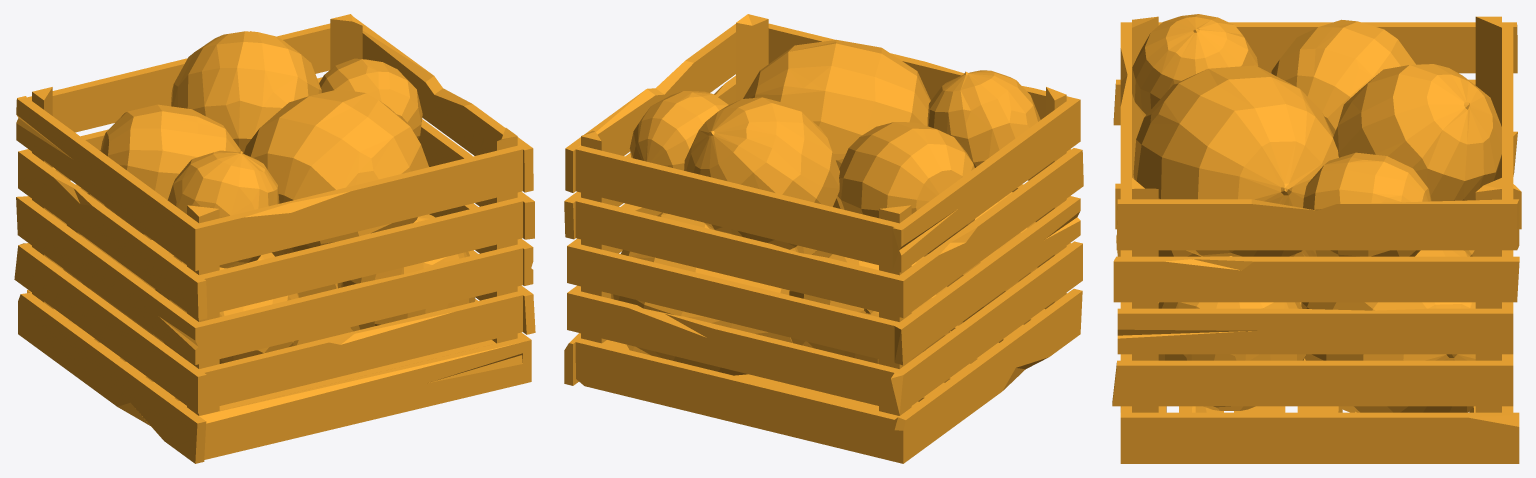
The model's file is SM_Crate_Wood_Big_Watermelon.fbx.
3 views of the same model, side by side, from view 1: azimuth 30°, elevation 25°; view 2: azimuth 150°, elevation 25°; view 3: azimuth 270°, elevation 25° (orthographic). The views are drawn at different scales.
Parts seen in each view (by area): view 1: crate-wood-big-watermelon; view 2: crate-wood-big-watermelon; view 3: crate-wood-big-watermelon.
Part boxes in pixels (x1=…): crate-wood-big-watermelon: x1=14, y1=14, x2=535, y2=463; crate-wood-big-watermelon: x1=564, y1=14, x2=1083, y2=463; crate-wood-big-watermelon: x1=1112, y1=14, x2=1521, y2=463.
Size of the model in its own units: 1.14 by 0.9443 by 1.08.
